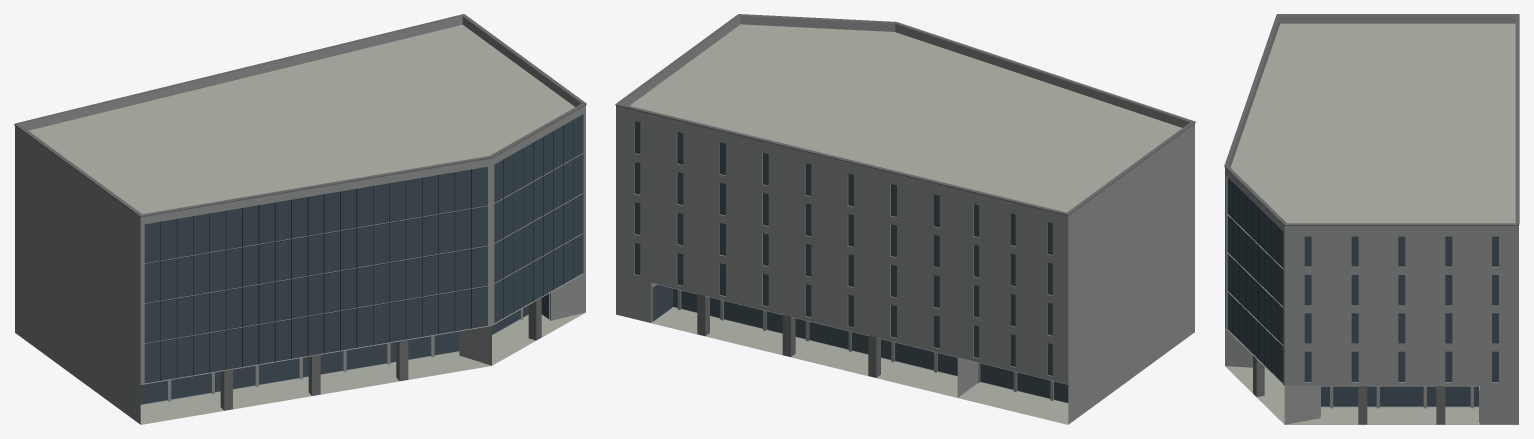
The picture shows the model from 3 angles, left to right: view 1: azimuth 30°, elevation 25°; view 2: azimuth 150°, elevation 25°; view 3: azimuth 270°, elevation 25°; orthographic projection. The views are drawn at different scales.
Parts seen in each view (by area): view 1: westminster__glass, westminster__roof, westminster__wall, westminster__parapet, westminster__frame, westminster__trim, westminster__column; view 2: westminster__wall, westminster__roof, westminster__glass, westminster__parapet, westminster__trim, westminster__column; view 3: westminster__roof, westminster__wall, westminster__glass, westminster__parapet, westminster__trim, westminster__frame, westminster__column.
Part boxes in pixels (bbox=[...]): westminster__glass: bbox=[140, 115, 582, 404]; westminster__roof: bbox=[15, 24, 585, 424]; westminster__wall: bbox=[15, 112, 585, 424]; westminster__parapet: bbox=[15, 16, 585, 224]; westminster__frame: bbox=[145, 120, 582, 380]; westminster__trim: bbox=[14, 14, 586, 217]; westminster__column: bbox=[220, 297, 541, 410]; westminster__wall: bbox=[616, 113, 1194, 424]; westminster__roof: bbox=[618, 24, 1194, 424]; westminster__glass: bbox=[634, 121, 1068, 402]; westminster__parapet: bbox=[616, 16, 1194, 222]; westminster__trim: bbox=[615, 14, 1195, 215]; westminster__column: bbox=[697, 294, 880, 377]; westminster__roof: bbox=[1225, 23, 1518, 424]; westminster__wall: bbox=[1225, 174, 1518, 424]; westminster__glass: bbox=[1227, 177, 1498, 406]; westminster__parapet: bbox=[1225, 15, 1518, 232]; westminster__trim: bbox=[1224, 14, 1519, 225]; westminster__frame: bbox=[1230, 183, 1279, 377]; westminster__column: bbox=[1253, 355, 1445, 424].
Size of the model in its own units: 44.73 by 19.82 by 26.48.
